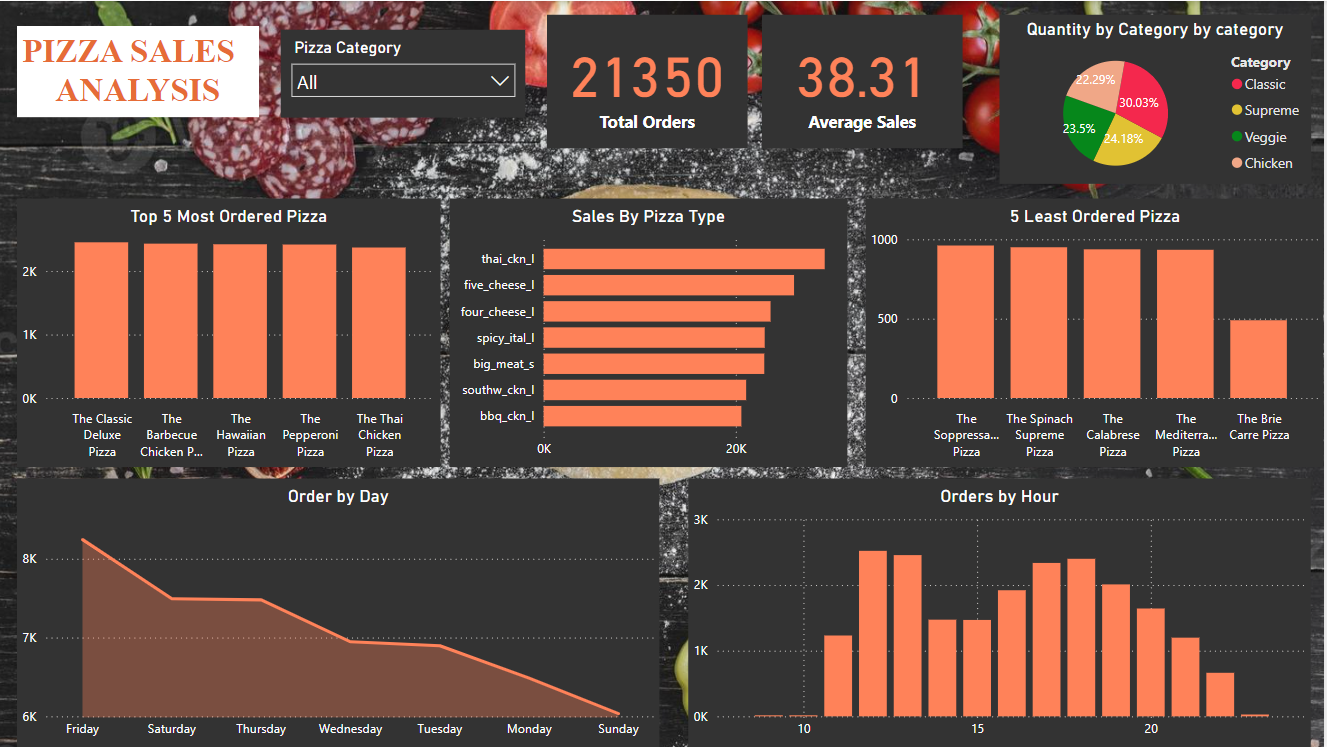

Layout of this report page (visuals, bound fields, positions):
{"tool":"powerbi","page":{"name":"Page 1","canvas":[1280,720],"ordinal":0},"visuals":[{"type":"clusteredColumnChart","title":"Orders per hour","fields":{"Category":["orders.order_hour"],"Y":["Count(orders.order_id)"]},"box":[666.9,461.1,601,259.3],"z":0},{"type":"stackedAreaChart","title":"Quantity by Day","fields":{"Category":["orders.day"],"Y":["Sum(order_details.quantity)"]},"box":[19.2,461.1,620.2,259.3],"z":1000},{"type":"card","fields":{"Values":["orders.Total_Orders"]},"box":[531,13.7,193.5,129],"z":2000},{"type":"clusteredColumnChart","title":"Top 5 Most Ordered Pizza","fields":{"Y":["order_details.Total_Orders_By_Pizza_Type"],"Category":["pizza_types.name"]},"box":[19.2,190.7,408.9,259.3],"z":3000},{"type":"clusteredColumnChart","title":"5 Least Ordered Pizza","fields":{"Y":["order_details.Total_Orders_By_Pizza_Type"],"Category":["pizza_types.name"]},"box":[838.4,190.7,441.9,259.3],"z":4000},{"type":"clusteredBarChart","title":"Sales By Pizza","fields":{"Category":["pizzas.pizza_id"],"Y":["order_details.Total_Sales_By_Pizza"]},"box":[436.4,190.7,384.2,259.3],"z":5000},{"type":"pieChart","fields":{"Category":["pizza_types.category"],"Y":["Sum(order_details.quantity)"]},"box":[967.4,13.7,300.5,163.3],"z":6000},{"type":"card","fields":{"Values":["order_details.Average_Sales"]},"box":[738.3,13.7,193.5,129],"z":7000},{"type":"slicer","fields":{"Values":["pizza_types.category"]},"box":[274.4,27.4,236,85.1],"z":8000},{"type":"textbox","box":[19.2,24.7,233.3,87.8],"z":9000}]}

Visuals, with their boxes in screenshot pixels (x1, y1, x2, y2), scaled from the page's 1280x720 canvas onto the 1327x747 screenshot:
"Orders per hour" clusteredColumnChart: box(691, 478, 1314, 746)
"Quantity by Day" stackedAreaChart: box(20, 478, 663, 746)
card - orders.Total_Orders: box(550, 14, 751, 148)
"Top 5 Most Ordered Pizza" clusteredColumnChart: box(20, 198, 444, 467)
"5 Least Ordered Pizza" clusteredColumnChart: box(869, 198, 1326, 467)
"Sales By Pizza" clusteredBarChart: box(452, 198, 851, 467)
pieChart - pizza_types.category x Sum(order_details.quantity): box(1003, 14, 1314, 184)
card - order_details.Average_Sales: box(765, 14, 966, 148)
slicer - pizza_types.category: box(284, 28, 529, 117)
textbox: box(20, 26, 262, 117)
